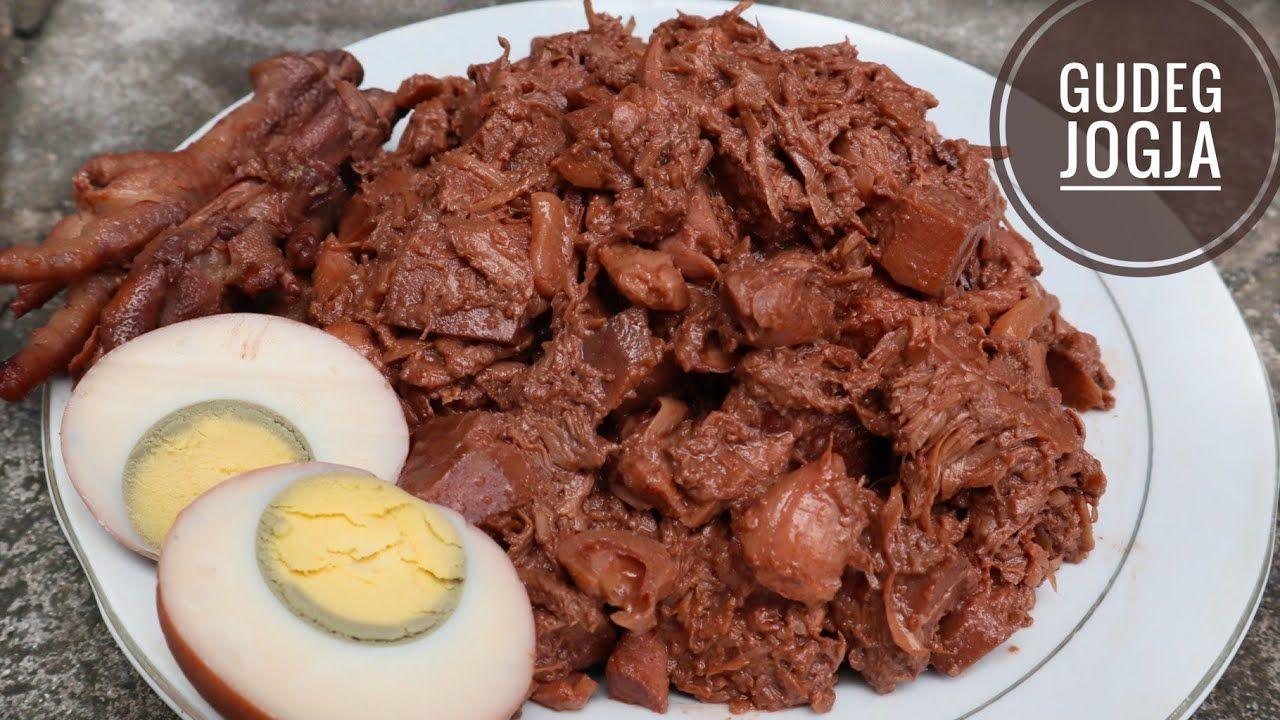gudeg: (11, 22, 1116, 720)
